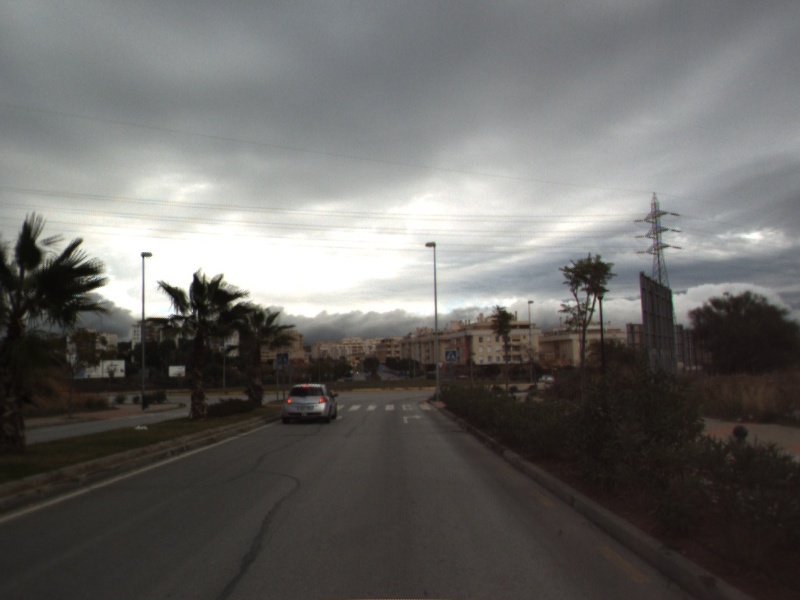RIGHT: (400, 412, 425, 425)
